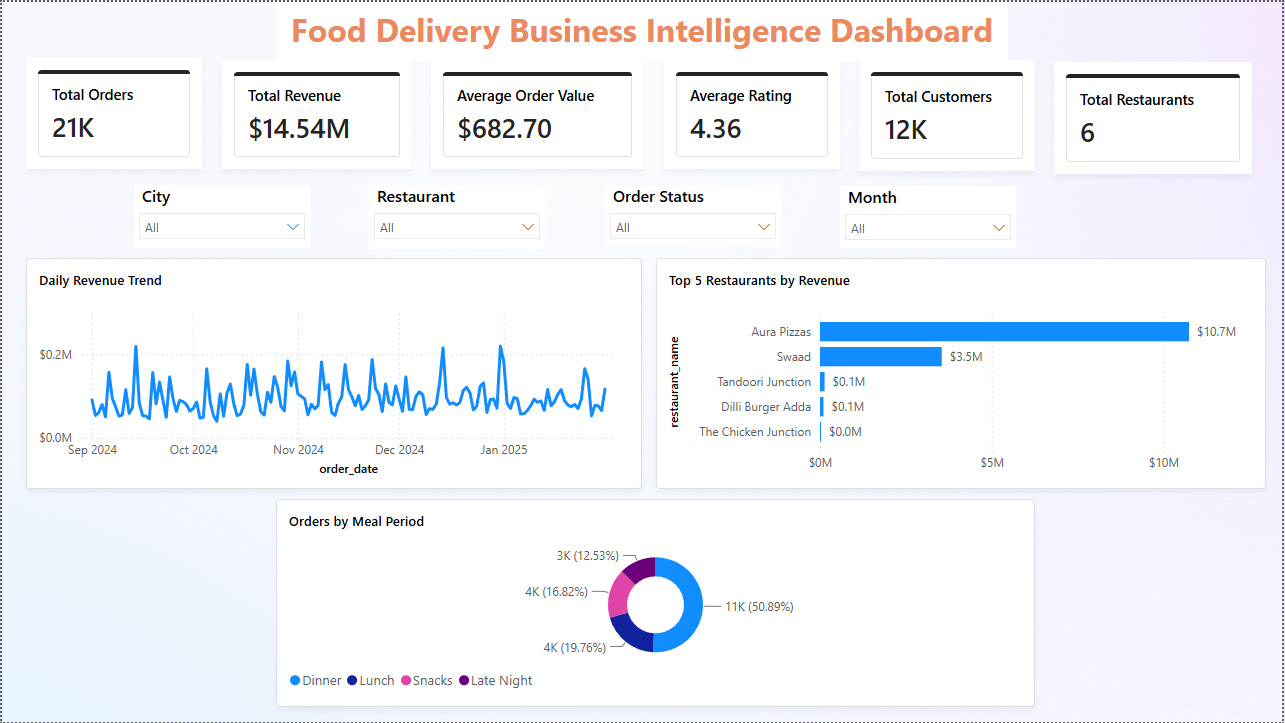

What the dashboard file says about the page in this screenshot:
{"tool":"powerbi","page":{"name":"Executive Overview","canvas":[1280,720],"ordinal":0},"visuals":[{"type":"textbox","box":[274.4,0,731.1,60],"z":0},{"type":"cardVisual","fields":{"Data":["order_history_clean_.Total Orders"]},"box":[24.4,55.6,175.6,111.1],"z":1000},{"type":"cardVisual","fields":{"Data":["order_history_clean_.Total Revenue"]},"box":[219.6,57.8,190,108.9],"z":2000},{"type":"cardVisual","fields":{"Data":["order_history_clean_.Average Order Value"]},"box":[429.1,57.8,213.3,108.9],"z":3000},{"type":"cardVisual","fields":{"Data":["order_history_clean_.Average Rating"]},"box":[662,57.8,175.6,108.9],"z":4000},{"type":"cardVisual","fields":{"Data":["order_history_clean_.Total Customers"]},"box":[857.1,57.8,175.6,111.1],"z":5000},{"type":"cardVisual","fields":{"Data":["order_history_clean_.Total Restaurants"]},"box":[1052.2,60,197.8,112.2],"z":6000},{"type":"slicer","fields":{"Values":["order_history_clean_.city"]},"box":[132,183,176,63],"z":7000},{"type":"slicer","fields":{"Values":["order_history_clean_.restaurant_name"]},"box":[367.3,183,176,64.2],"z":8000},{"type":"slicer","fields":{"Values":["order_history_clean_.order_status"]},"box":[602.7,183,176,62.2],"z":9000},{"type":"slicer","fields":{"Values":["order_history_clean_.month_name"]},"box":[838,184,176,62.2],"z":10000},{"type":"lineChart","title":"Daily Revenue Trend","fields":{"Y":["order_history_clean_.Total Revenue"],"Category":["order_history_clean_.order_date"]},"box":[24,256,616,231],"z":11000},{"type":"clusteredBarChart","title":"Top 5 Restaurants by Revenue","fields":{"Category":["order_history_clean_.restaurant_name"],"Y":["order_history_clean_.Total Revenue"]},"box":[654,256,610,231],"z":12000},{"type":"donutChart","title":"Orders by Meal Period","fields":{"Category":["order_history_clean_.meal_period"],"Y":["order_history_clean_.Total Orders"]},"box":[274,497,759,208],"z":13000}]}

Visuals, with their boxes in screenshot pixels (x1, y1, x2, y2), scaled from the page's 1280x720 canvas onto the 1285x723 screenshot:
textbox: <box>275,0,1009,60</box>
cardVisual - order_history_clean_.Total Orders: <box>24,56,201,167</box>
cardVisual - order_history_clean_.Total Revenue: <box>220,58,411,167</box>
cardVisual - order_history_clean_.Average Order Value: <box>431,58,645,167</box>
cardVisual - order_history_clean_.Average Rating: <box>665,58,841,167</box>
cardVisual - order_history_clean_.Total Customers: <box>860,58,1037,170</box>
cardVisual - order_history_clean_.Total Restaurants: <box>1056,60,1255,173</box>
slicer - order_history_clean_.city: <box>133,184,309,247</box>
slicer - order_history_clean_.restaurant_name: <box>369,184,545,248</box>
slicer - order_history_clean_.order_status: <box>605,184,782,246</box>
slicer - order_history_clean_.month_name: <box>841,185,1018,247</box>
"Daily Revenue Trend" lineChart: <box>24,257,642,489</box>
"Top 5 Restaurants by Revenue" clusteredBarChart: <box>657,257,1269,489</box>
"Orders by Meal Period" donutChart: <box>275,499,1037,708</box>
